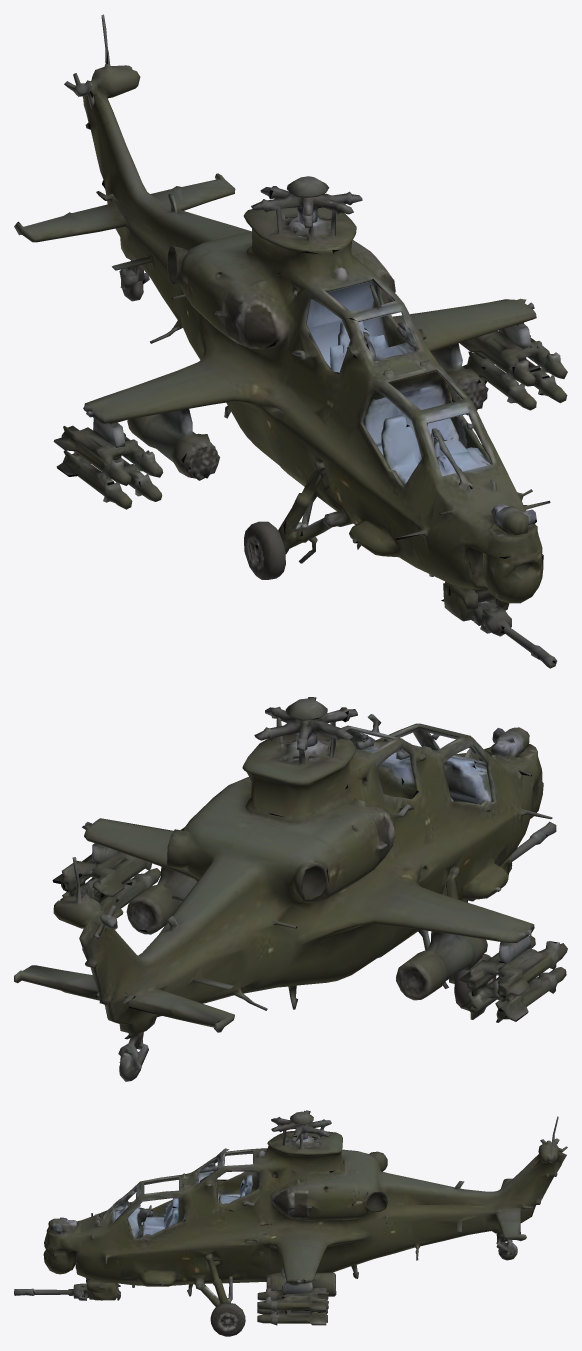
The model's file is hawk.glb.
The picture shows the model from 3 angles, top to bottom: view 1: azimuth 30°, elevation 25°; view 2: azimuth 150°, elevation 25°; view 3: azimuth 270°, elevation 25°; orthographic projection. The views are drawn at different scales.
Parts seen in each view (by area): view 1: LOW; view 2: LOW; view 3: LOW.
Part boxes in pixels (<box>): LOW: <box>14,14,567,668</box>; LOW: <box>14,697,567,1081</box>; LOW: <box>14,1110,567,1336</box>.
Bounding box in the file's own units: 0.5714 × 0.3843 × 1.
1 material, 1 textured.
